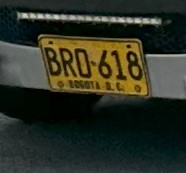number plate: (38, 34, 148, 95)
